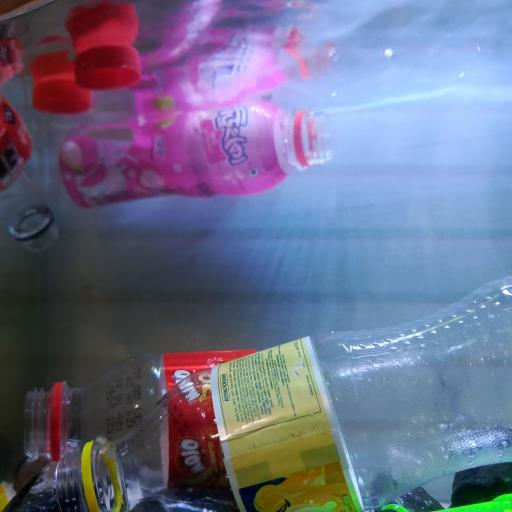bottle_cap: (66, 2, 142, 54), (70, 46, 144, 95), (30, 70, 96, 118)
plastic_bottle: (51, 280, 507, 512), (12, 350, 442, 480), (54, 102, 334, 206), (2, 100, 64, 254)
